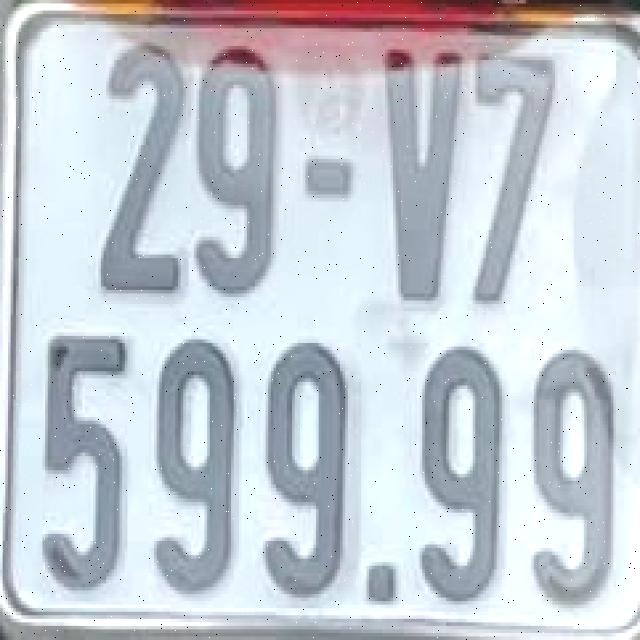2: (91, 36, 190, 300)
5: (36, 326, 131, 590)
7: (467, 43, 558, 311)
9: (255, 332, 356, 598), (522, 340, 623, 604), (410, 334, 509, 603), (189, 34, 284, 298), (146, 331, 242, 592)
V: (376, 39, 466, 304)
